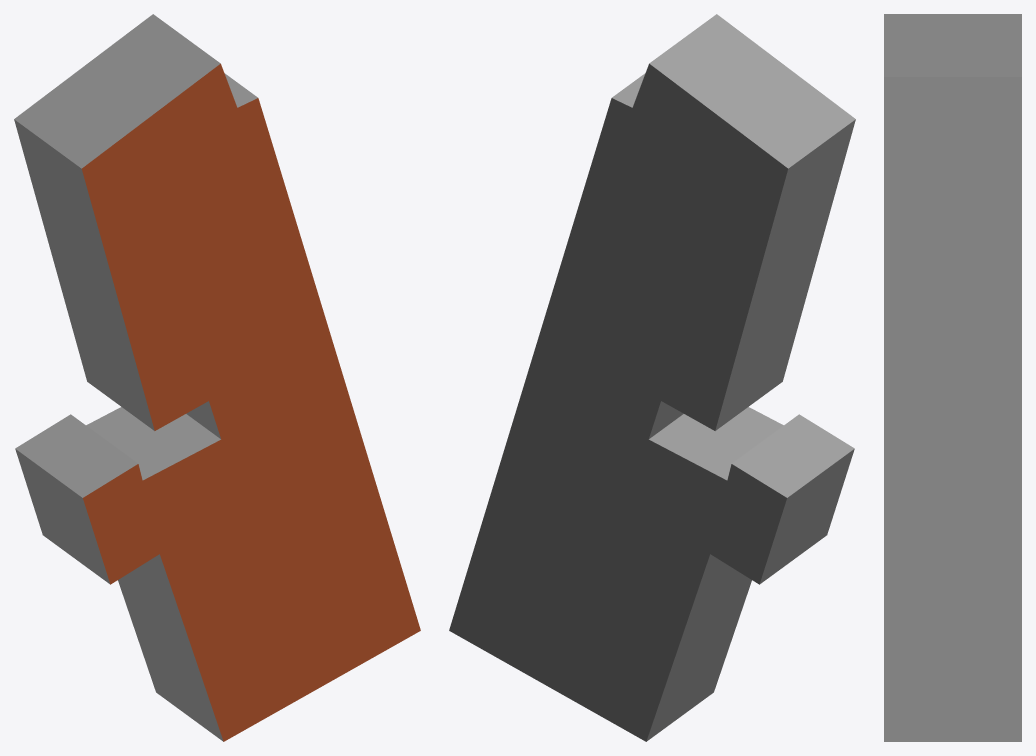
File: construction_1186_assumed_A_Casa_h6m.obj
3 views of the same model, side by side, from view 1: azimuth 30°, elevation 25°; view 2: azimuth 150°, elevation 25°; view 3: azimuth 270°, elevation 25° (orthographic). The views are drawn at different scales.
Visible parts, largest first — view 1: construction_1186_assumed_A_Casa; view 2: construction_1186_assumed_A_Casa; view 3: construction_1186_assumed_A_Casa.
Part boxes in pixels (left/top/right/bottom): construction_1186_assumed_A_Casa: left=14, top=14, right=420, bottom=741; construction_1186_assumed_A_Casa: left=449, top=14, right=855, bottom=741; construction_1186_assumed_A_Casa: left=884, top=14, right=1021, bottom=741.
Size of the model in its own units: 17.38 by 33.24 by 6.
